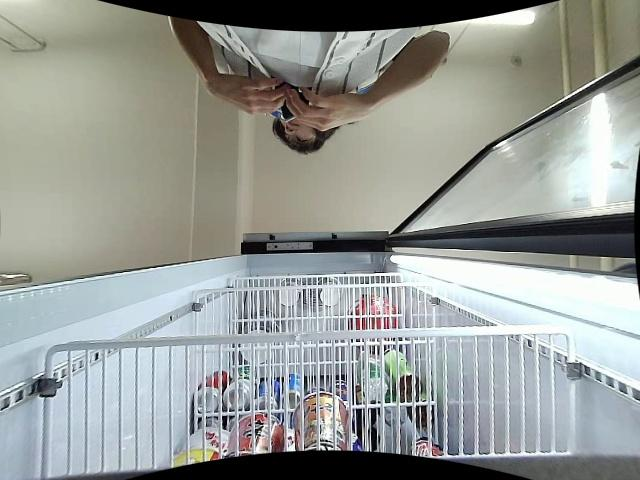00_hand: (287, 84, 373, 133), (206, 72, 287, 117)
